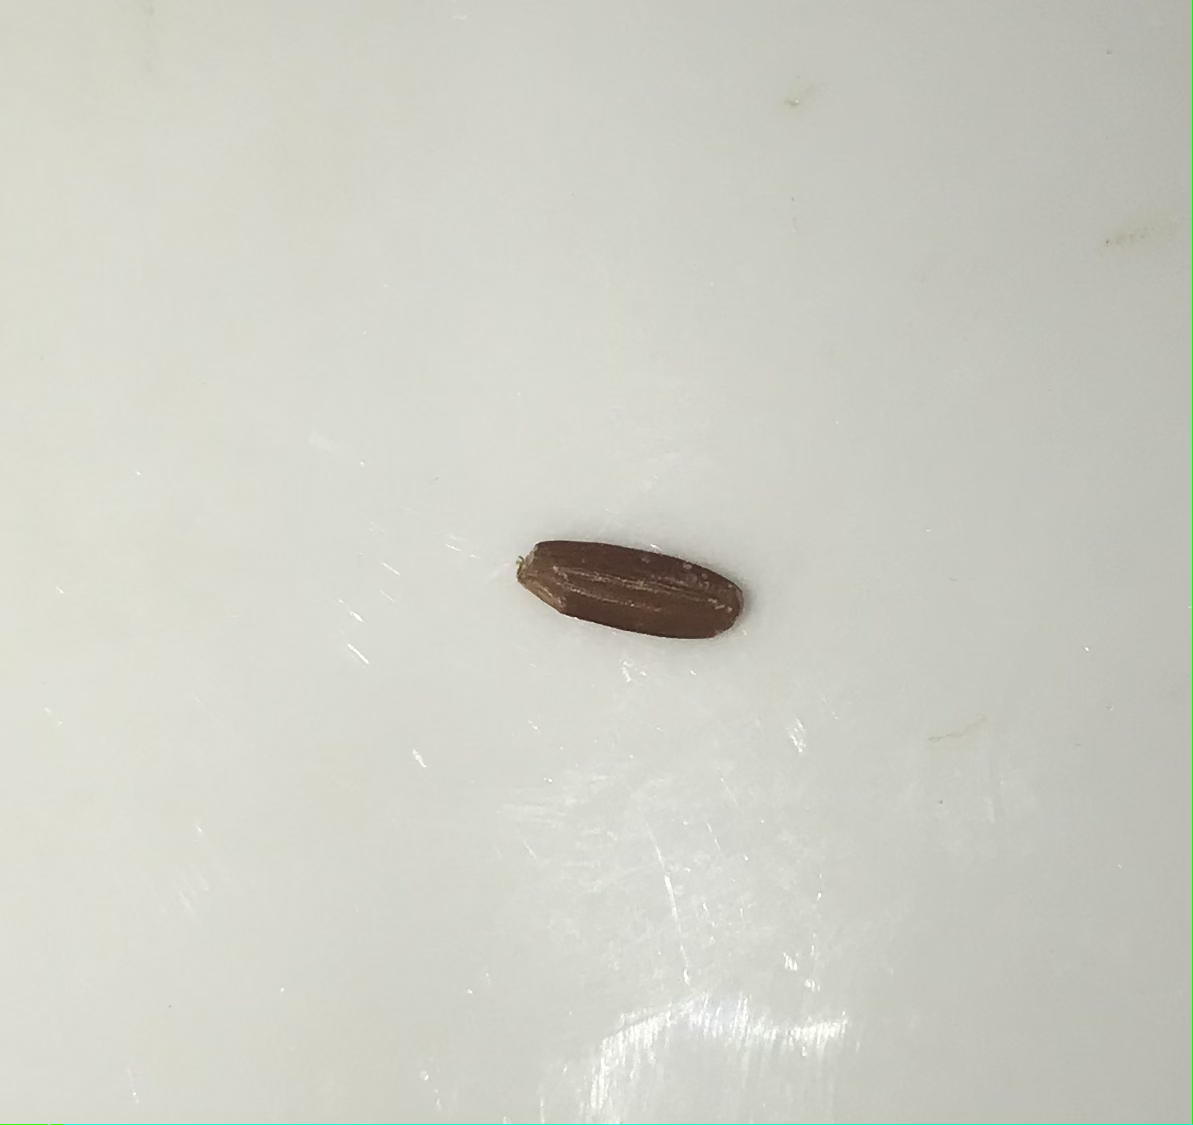Gao Lut Do: (522, 520, 758, 660)
